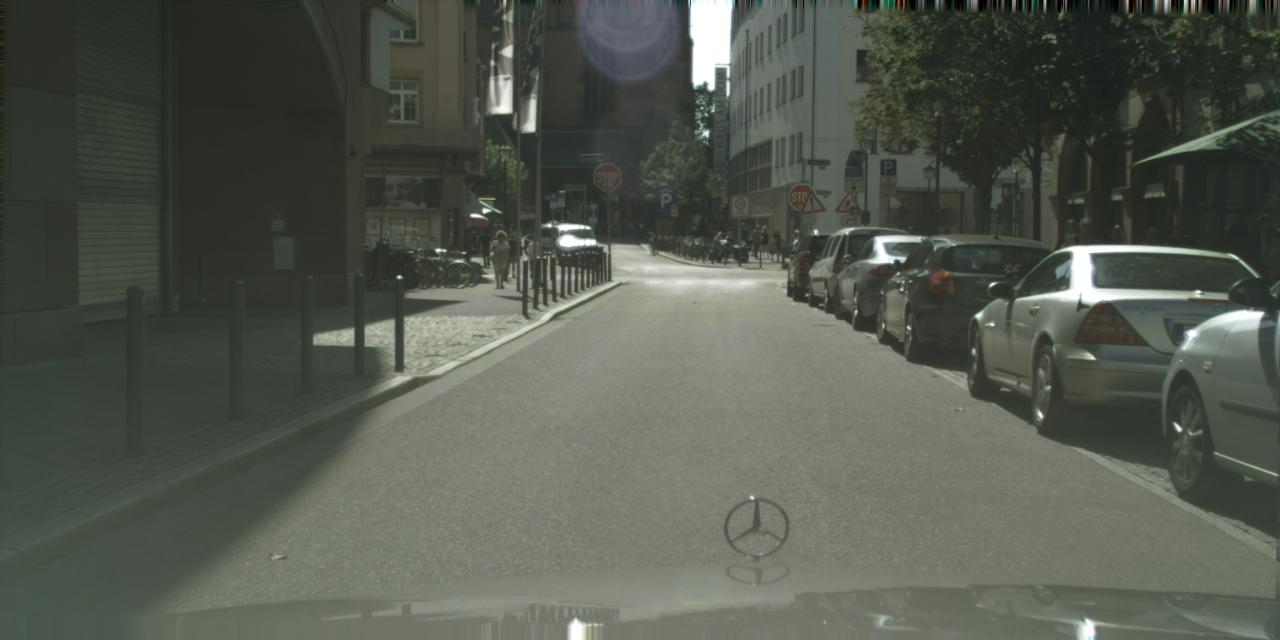ped: (1242, 225, 1278, 366), (1062, 217, 1104, 321), (1048, 218, 1090, 321), (1164, 223, 1199, 310), (1227, 208, 1262, 295), (1097, 224, 1129, 304), (1253, 214, 1279, 290), (1135, 226, 1163, 296), (900, 226, 924, 285), (488, 230, 512, 288), (937, 228, 957, 278), (501, 233, 520, 278), (526, 235, 544, 278), (917, 229, 934, 273), (478, 229, 494, 267), (788, 228, 804, 265), (792, 231, 807, 269), (749, 224, 763, 258), (491, 219, 504, 252), (758, 225, 771, 257), (769, 230, 782, 262), (510, 225, 522, 256), (738, 223, 748, 253), (706, 220, 720, 240), (725, 228, 734, 250), (508, 223, 516, 243), (594, 218, 602, 237), (632, 220, 640, 238), (690, 222, 698, 240), (614, 221, 622, 238), (713, 228, 720, 246), (628, 220, 635, 237), (698, 218, 704, 236), (719, 218, 725, 236), (607, 221, 613, 237), (600, 218, 606, 234), (611, 220, 617, 236), (638, 222, 644, 237), (651, 222, 657, 236), (724, 220, 728, 232)
